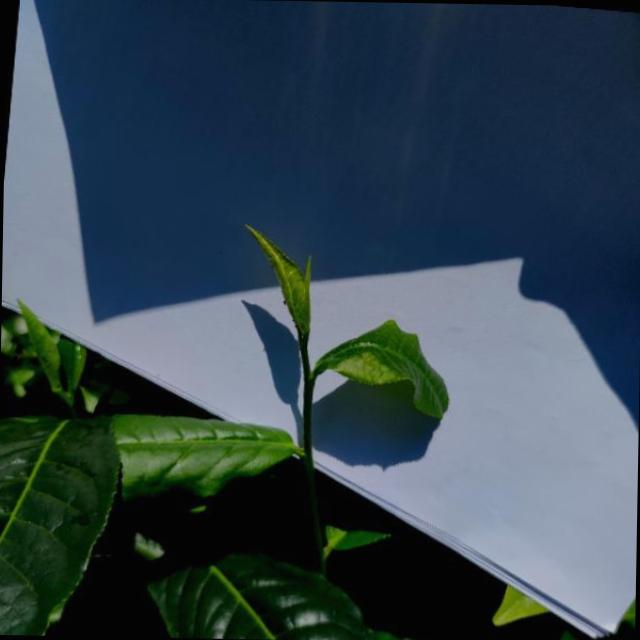Stem: (303, 375, 312, 387)
